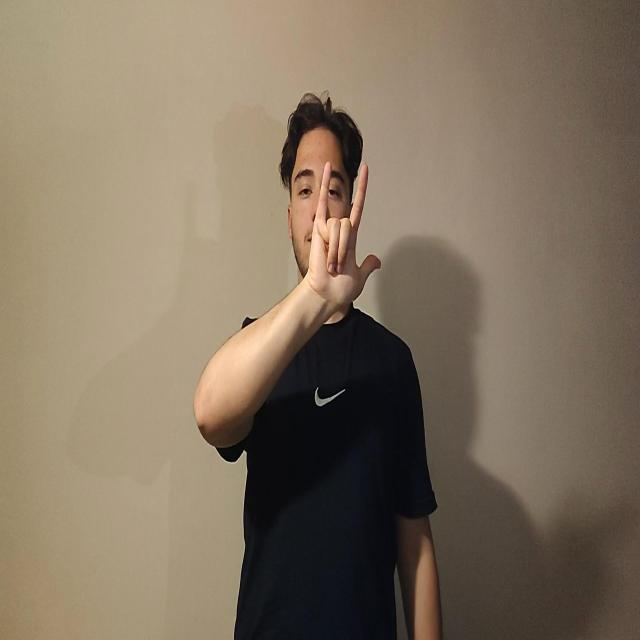iloveyou: (306, 159, 381, 313)
